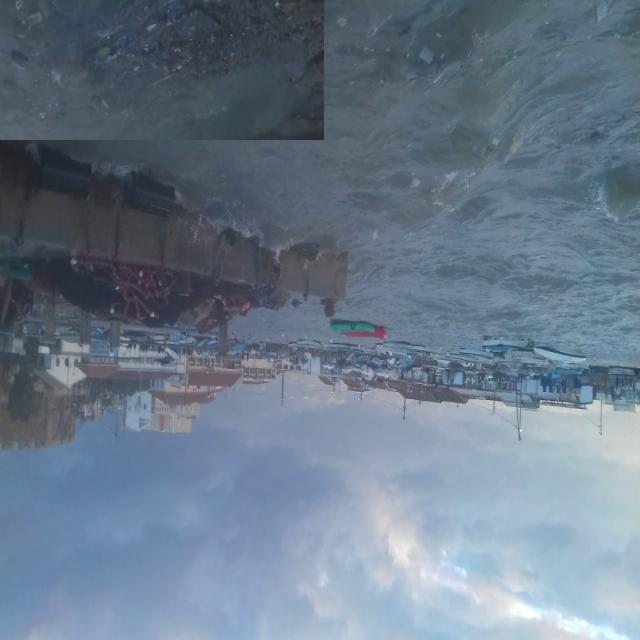Undefined trash: (0, 0, 324, 140), (338, 0, 492, 95)
